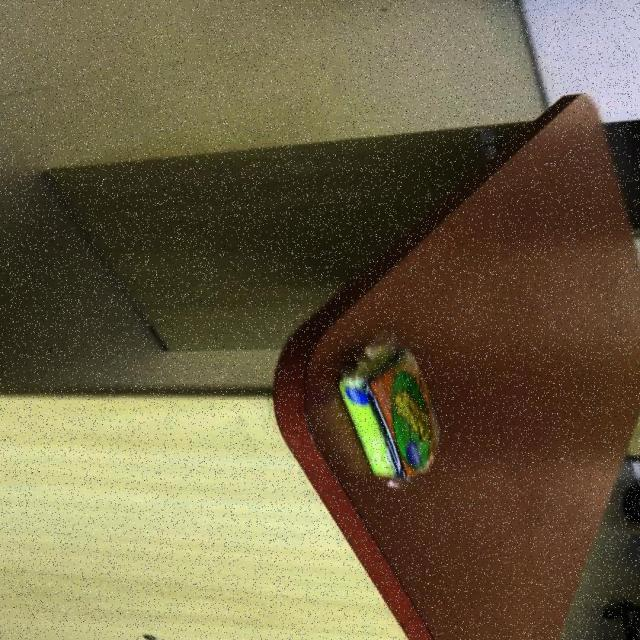Sponge: (334, 330, 439, 488)
